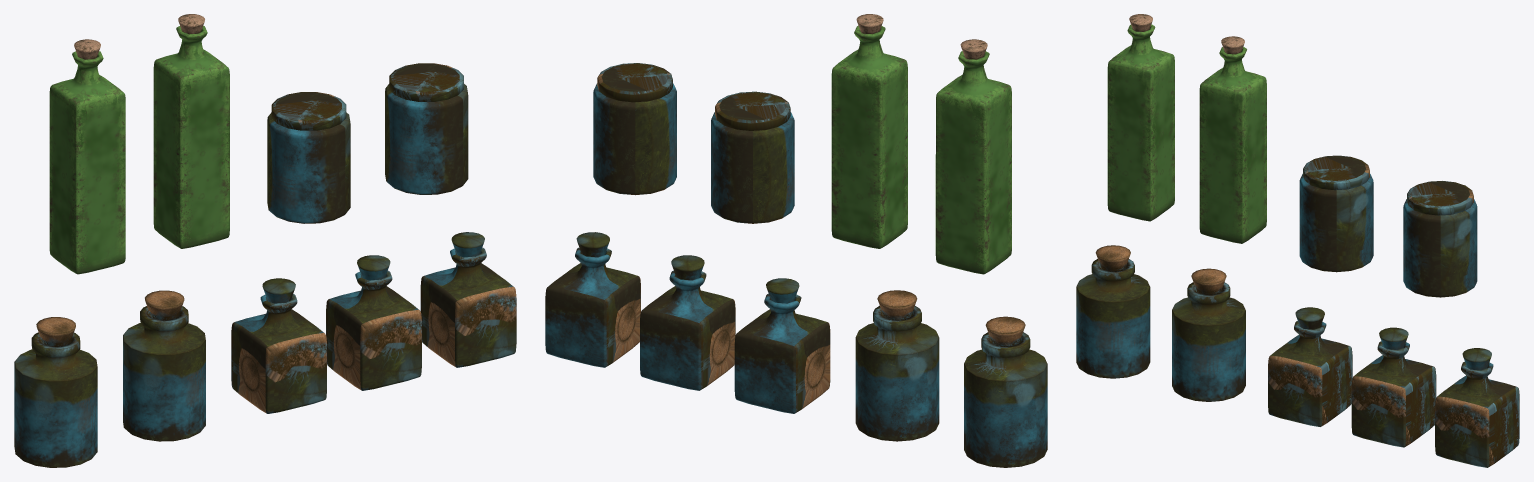
Rendered from bottlesLOW.fbx.
The picture shows the model from 3 angles, left to right: view 1: azimuth 30°, elevation 25°; view 2: azimuth 150°, elevation 25°; view 3: azimuth 330°, elevation 25°; orthographic projection. The views are drawn at different scales.
Parts seen in each view (by area): view 1: B3_low.001, B3_low.002, B1.02_low.001, B1.02_low, B2_low, B2.03_low.001, B2.03_low, B4_low.001, B4_low.002, C4_low.001, C4_low.002, C1.02_low (+4 smaller); view 2: B3_low.002, B3_low.001, B1.02_low, B1.02_low.001, B2_low, B2.03_low, B2.03_low.001, B4_low.001, B4_low.002, C4_low.002, C4_low.001, C1.02_low (+4 smaller); view 3: B3_low.002, B3_low.001, B1.02_low.001, B1.02_low, B2.03_low, B2.03_low.001, B2_low, B4_low.002, B4_low.001, C4_low.001, C4_low.002, C1.02_low.001 (+4 smaller).
Part boxes in pixels (<box>): B3_low.001: <box>49,51,125,274</box>; B3_low.002: <box>153,26,229,248</box>; B1.02_low.001: <box>14,332,97,467</box>; B1.02_low: <box>123,306,205,441</box>; B2_low: <box>231,294,326,413</box>; B2.03_low.001: <box>420,247,516,367</box>; B2.03_low: <box>326,270,421,390</box>; B4_low.001: <box>267,112,350,223</box>; B4_low.002: <box>385,84,468,194</box>; C4_low.001: <box>271,92,346,130</box>; C4_low.002: <box>389,63,463,101</box>; C1.02_low: <box>145,290,184,319</box>; B3_low.002: <box>831,25,907,248</box>; B3_low.001: <box>935,51,1011,274</box>; B1.02_low: <box>855,305,939,441</box>; B1.02_low.001: <box>964,332,1047,467</box>; B2_low: <box>734,293,830,413</box>; B2.03_low: <box>640,270,735,390</box>; B2.03_low.001: <box>545,247,640,367</box>; B4_low.001: <box>711,112,794,223</box>; B4_low.002: <box>593,83,676,195</box>; C4_low.002: <box>597,63,672,102</box>; C4_low.001: <box>715,91,790,130</box>; C1.02_low: <box>877,290,917,319</box>; B3_low.002: <box>1199,47,1266,243</box>; B3_low.001: <box>1107,24,1174,221</box>; B1.02_low.001: <box>1076,259,1150,378</box>; B1.02_low: <box>1172,282,1245,401</box>; B2.03_low: <box>1351,341,1436,447</box>; B2.03_low.001: <box>1435,361,1519,467</box>; B2_low: <box>1268,321,1352,426</box>; B4_low.002: <box>1403,199,1477,297</box>; B4_low.001: <box>1299,174,1373,272</box>; C4_low.001: <box>1303,155,1369,190</box>; C4_low.002: <box>1407,181,1473,215</box>; C1.02_low.001: <box>1095,245,1130,271</box>.
Size of the model in its own units: 13.55 by 10.78 by 2.03.
